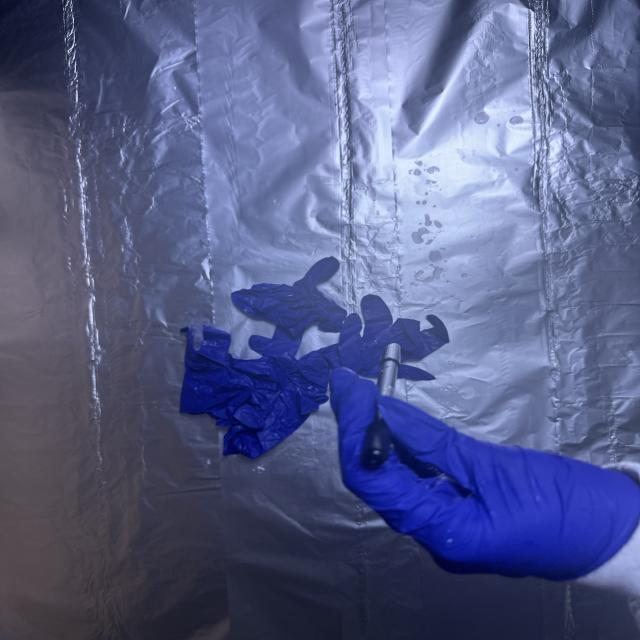gloves_contaminated: (330, 369, 640, 581)
